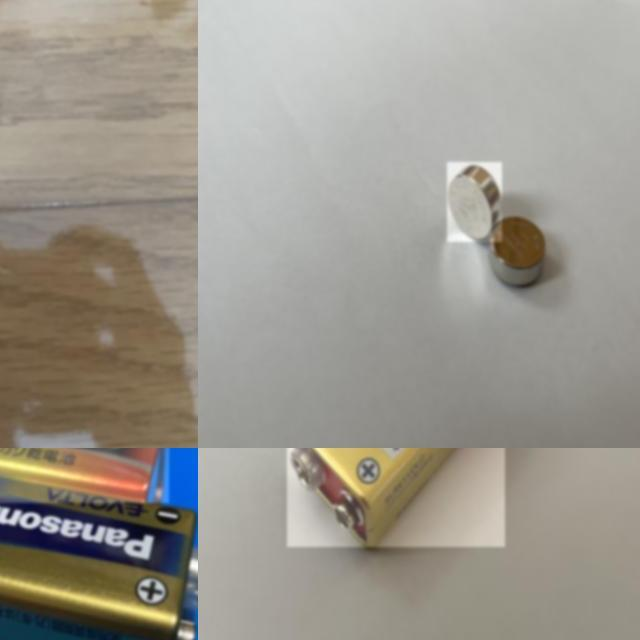9V: (0, 467, 198, 640), (287, 448, 505, 547), (0, 448, 169, 503)
